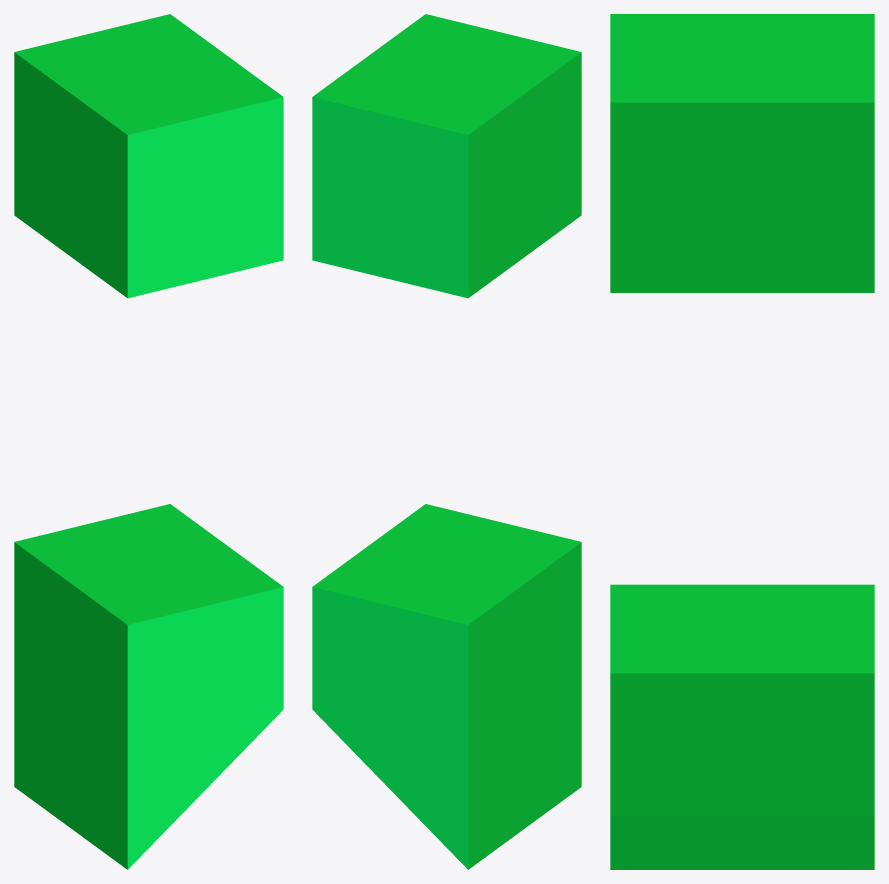
The picture shows the model from 3 angles, left to right: view 1: azimuth 30°, elevation 25°; view 2: azimuth 150°, elevation 25°; view 3: azimuth 270°, elevation 25°; orthographic projection. The views are drawn at different scales.
Parts seen in each view (by area): view 1: ;_DeltaBlock_Green; view 2: ;_DeltaBlock_Green; view 3: ;_DeltaBlock_Green.
Part boxes in pixels (x1,y1,x2,y2): ;_DeltaBlock_Green: (14, 14, 283, 869); ;_DeltaBlock_Green: (312, 14, 581, 869); ;_DeltaBlock_Green: (610, 14, 874, 869).
Size of what is drawn, in the model's own units: 0.0357 by 0.1607 by 0.045.
2 materials, 2 textured.
